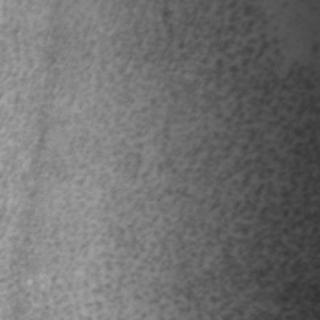pitted_surface: (130, 2, 314, 316)
